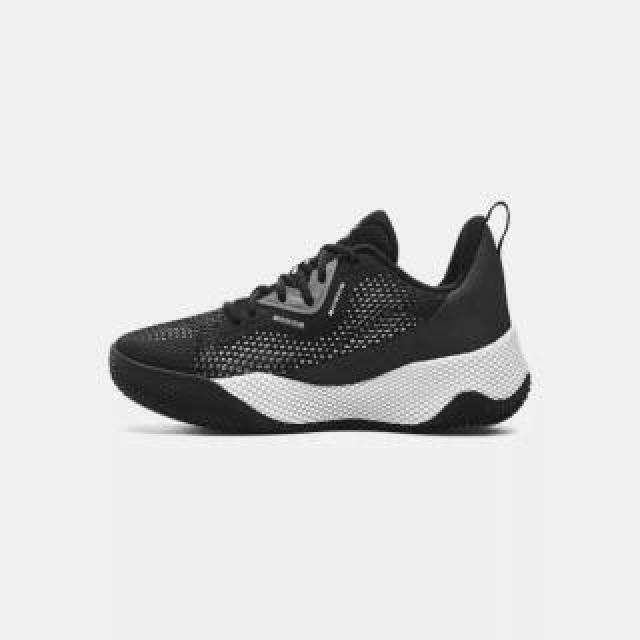shoe: (108, 210, 530, 434)
